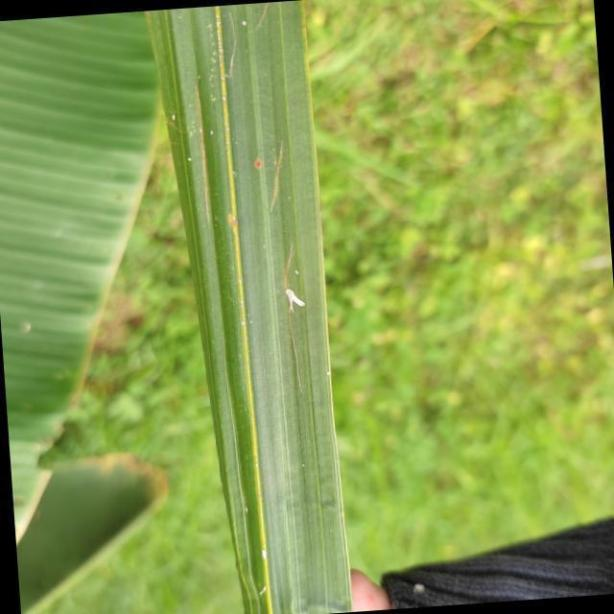Boron: (137, 3, 351, 614)
